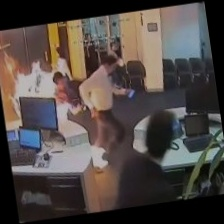fire: (0, 40, 67, 116)
